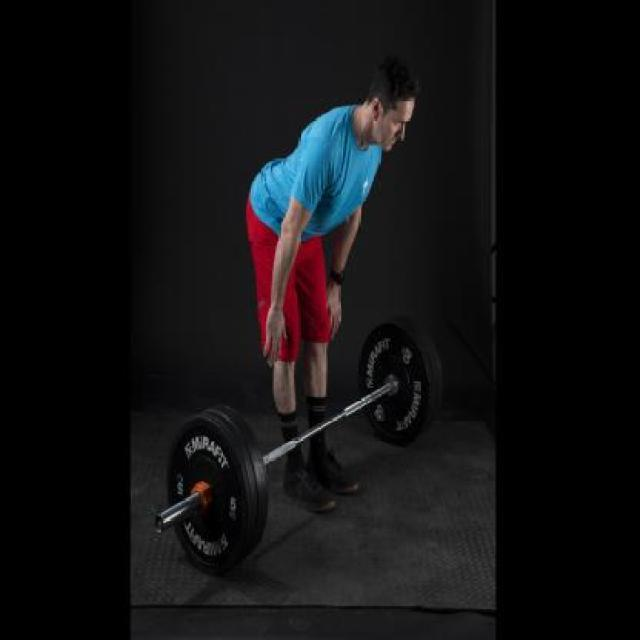barbell: (152, 395, 283, 581)
